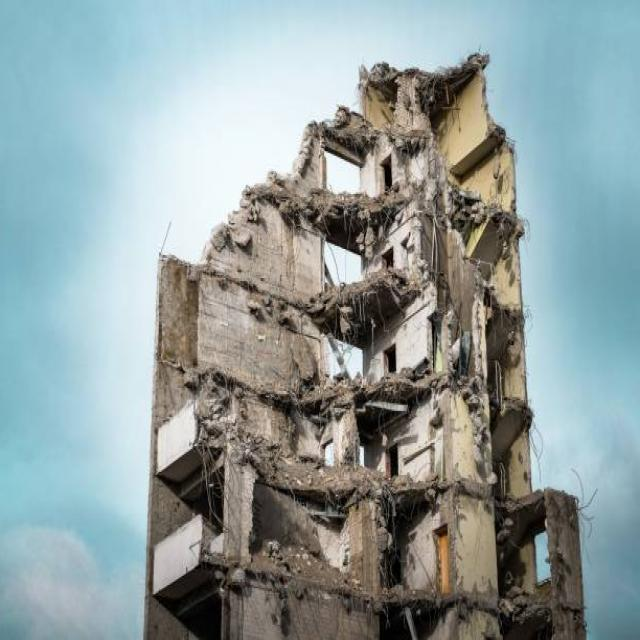Destroyed_building: (74, 0, 637, 640)
